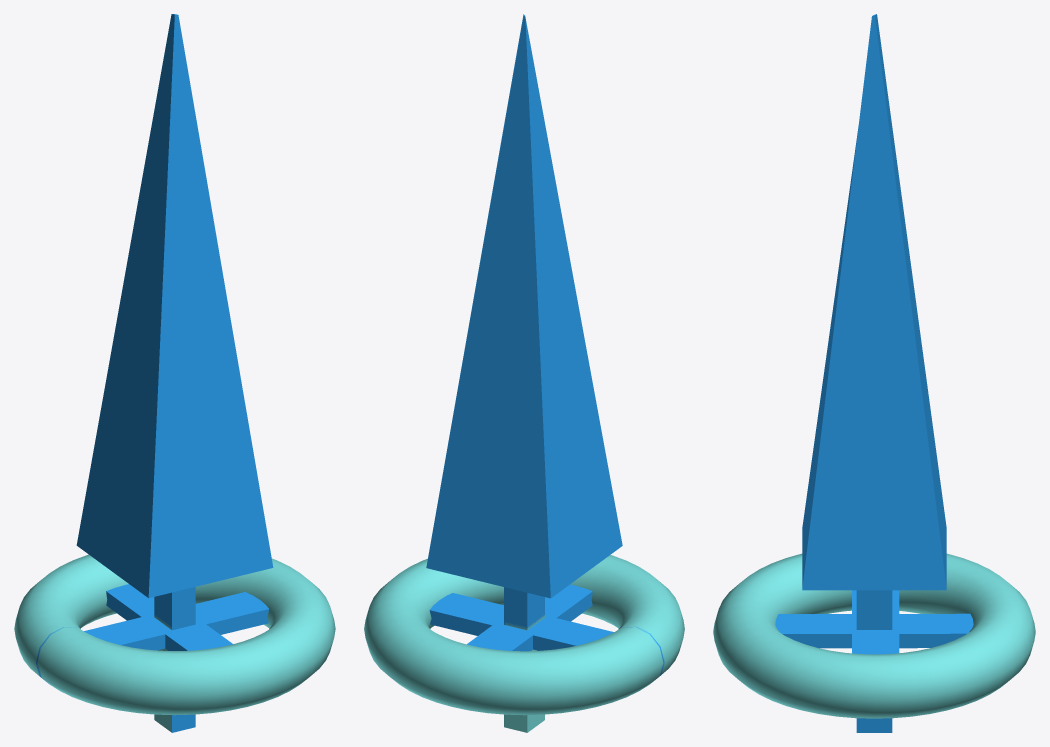
The model's file is sword.obj.
3 views of the same model, side by side, from view 1: azimuth 30°, elevation 25°; view 2: azimuth 150°, elevation 25°; view 3: azimuth 270°, elevation 25° (orthographic).
Visible parts, largest first — view 1: トーラス; view 2: トーラス; view 3: トーラス.
Boxes of the visible parts, x1,y1,x2,y2 form: トーラス: [14, 14, 335, 732]; トーラス: [364, 14, 684, 732]; トーラス: [713, 14, 1035, 732].
Bounding box in the file's own units: 2.5 × 6.09 × 2.5.
